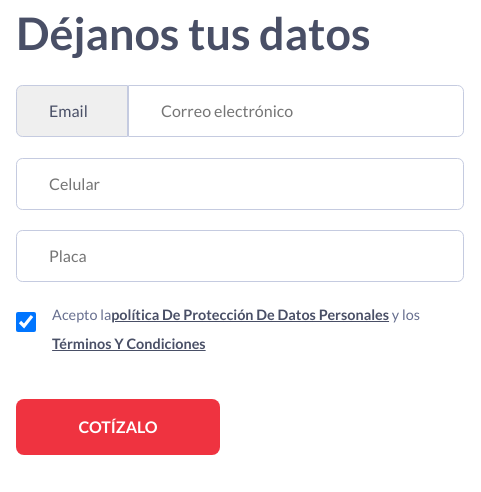
it: invalid phone number
Type "john@doe.com" into the field with placeholder "Correo electrónico" at (296, 111), box [128, 85, 464, 137]
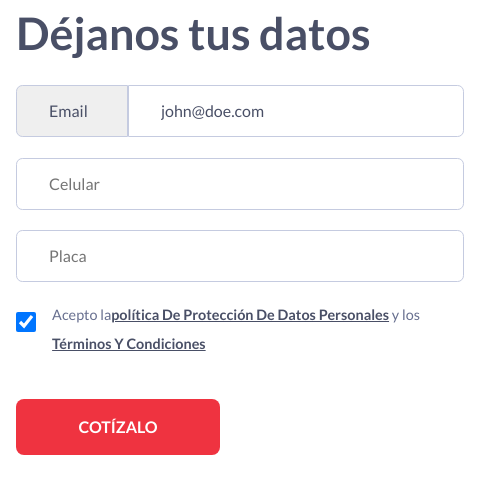
Type "99222333" into the field with placeholder "Celular" at (240, 184), box [16, 158, 464, 210]
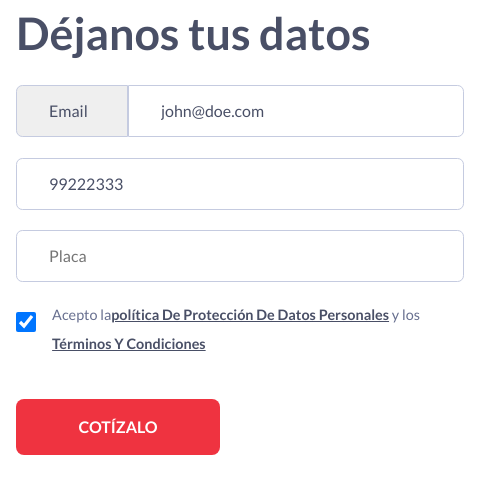
Type "ABC-123" into the field with placeholder "Placa" at (240, 256), box [16, 230, 464, 282]
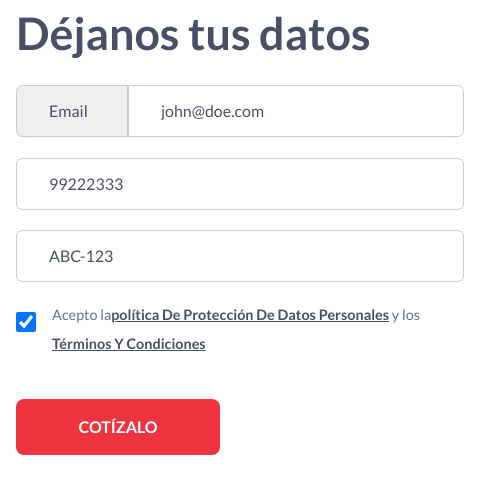
Click the button "Cotízalo" at (118, 427), box [16, 399, 220, 456]
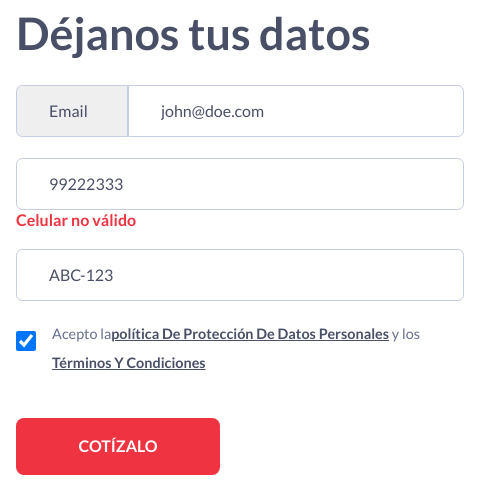
Now the text "Celular no válido" is shown, box [16, 210, 136, 229]
